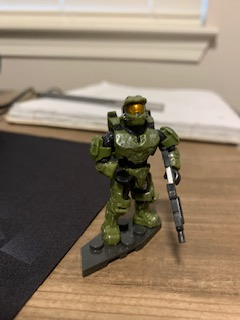chief: (88, 94, 184, 247)
rifle: (159, 150, 187, 248)
spartan: (86, 92, 182, 245)
